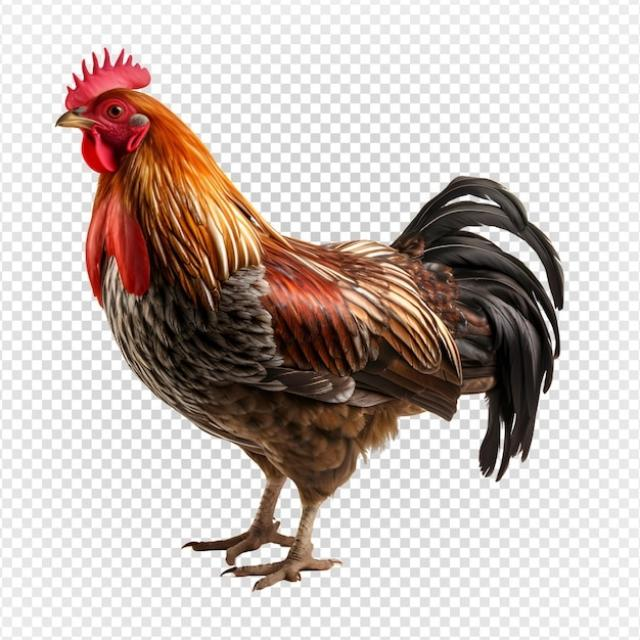Chicken: (54, 46, 564, 593)
